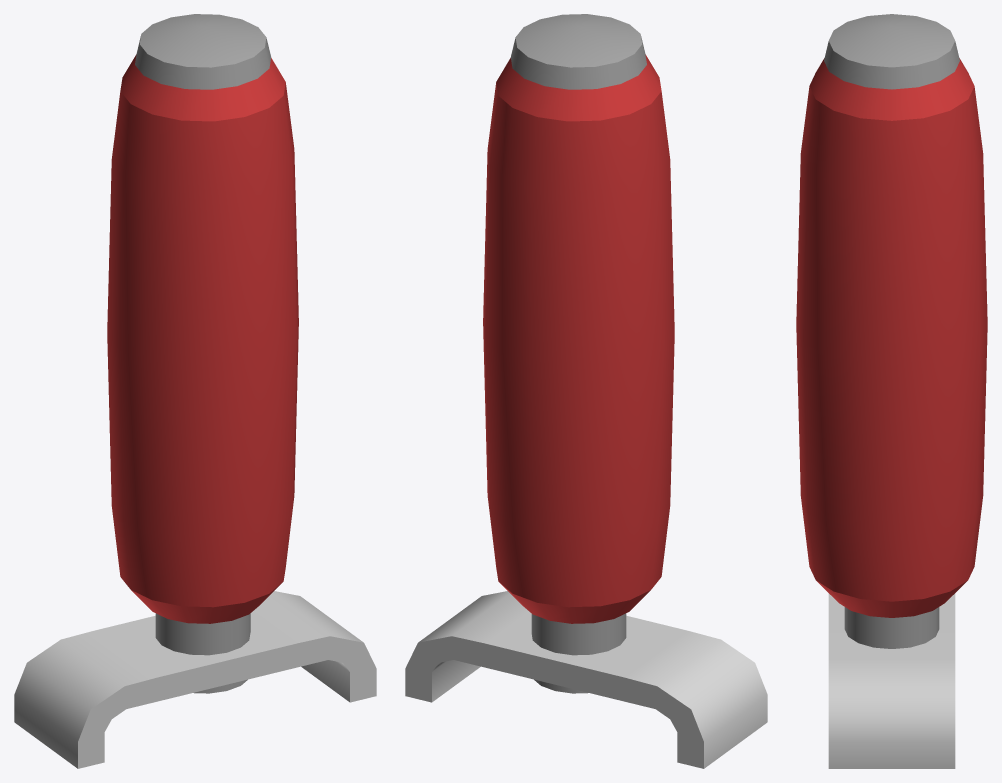
Rendered from LS_Arm_002.fbx.
The picture shows the model from 3 angles, left to right: view 1: azimuth 30°, elevation 25°; view 2: azimuth 150°, elevation 25°; view 3: azimuth 270°, elevation 25°; orthographic projection.
Visible parts, largest first — view 1: LS_Arm_002; view 2: LS_Arm_002; view 3: LS_Arm_002.
Boxes of the visible parts, x1=… form: LS_Arm_002: x1=14, y1=14, x2=376, y2=768; LS_Arm_002: x1=405, y1=14, x2=767, y2=768; LS_Arm_002: x1=796, y1=14, x2=987, y2=768.
Bounding box in the file's own units: 96.73 × 211 × 54.23.
